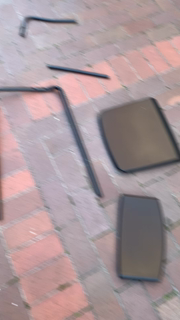Back: (113, 191, 166, 284)
L pipe: (19, 15, 82, 42)
Seat: (94, 97, 180, 176)
i pipe: (46, 62, 112, 84)
